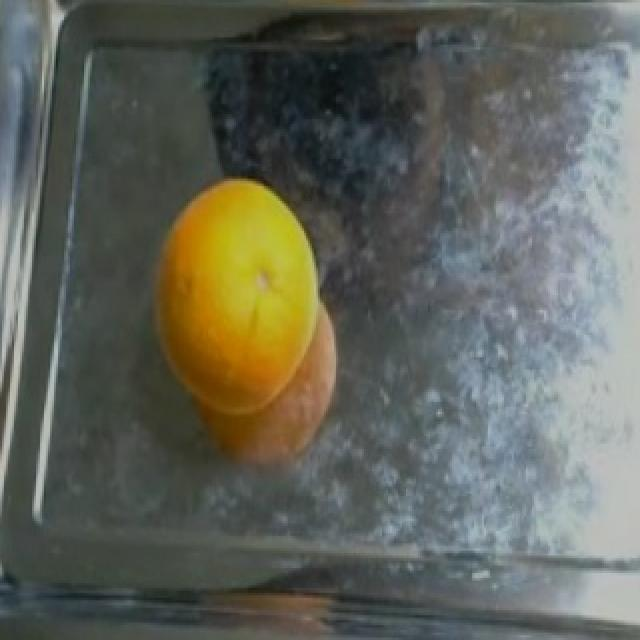Fruit: (138, 169, 340, 481)
